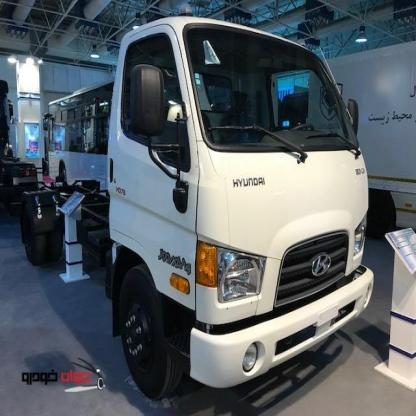Bus: (34, 84, 116, 194), (42, 79, 113, 186)
Truck: (114, 17, 377, 416)
